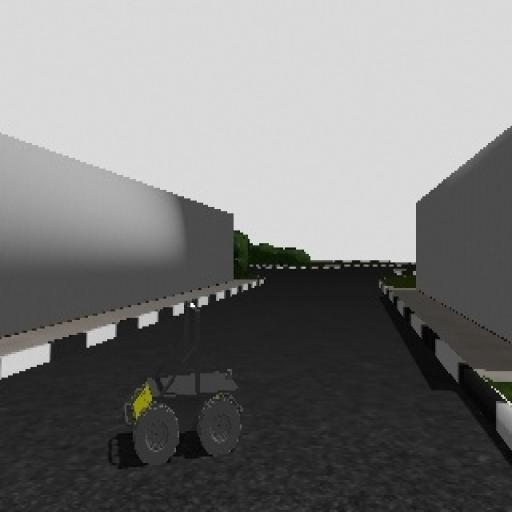huskya200: (112, 281, 254, 475)
